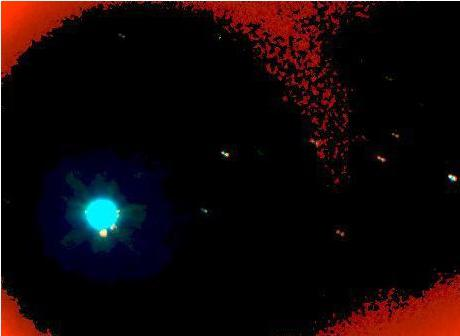star: (89, 218, 119, 248)
